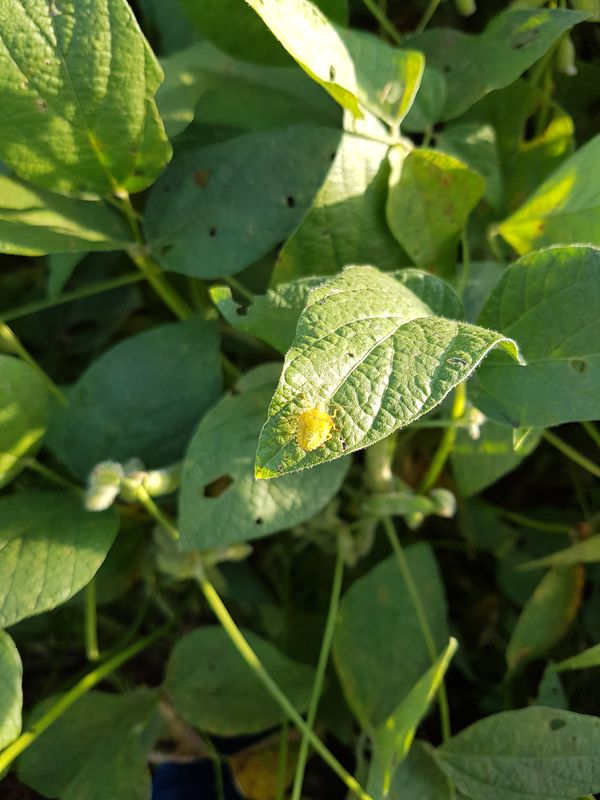Euschistus_heros_ninfa: (275, 385, 356, 461)
